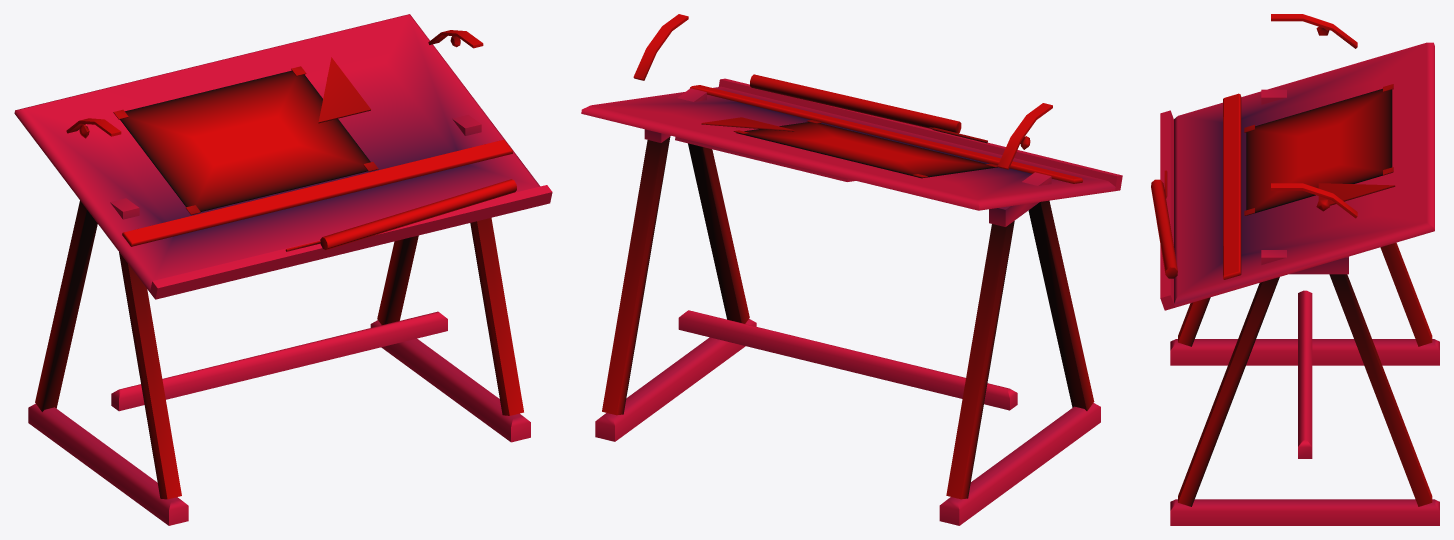
The model's file is CI_Office_DraftingTable.glb.
3 renders of one model, left to right at view 1: azimuth 30°, elevation 25°; view 2: azimuth 150°, elevation 25°; view 3: azimuth 270°, elevation 25°, orthographic. The views are drawn at different scales.
Visible parts, largest first — view 1: CI_Office_DraftingTable; view 2: CI_Office_DraftingTable; view 3: CI_Office_DraftingTable.
Part boxes in pixels (box(x1,y1,x2,y2)): CI_Office_DraftingTable: box(14, 14, 552, 525); CI_Office_DraftingTable: box(581, 14, 1122, 525); CI_Office_DraftingTable: box(1151, 14, 1439, 525).
Bounding box in the file's own units: 1.2 × 1.03 × 0.793.
